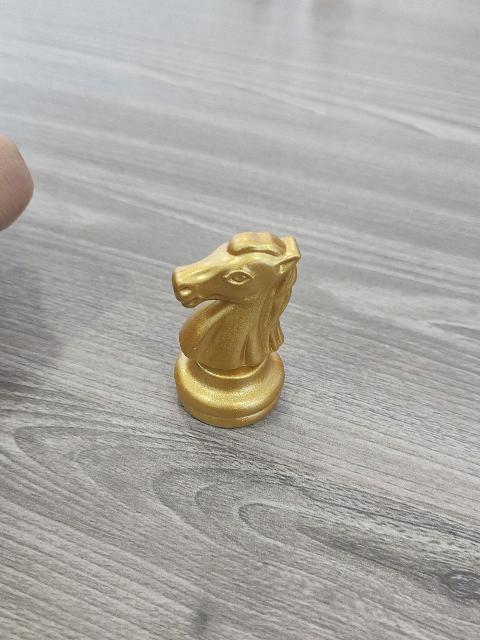black_knight: (168, 226, 307, 433)
